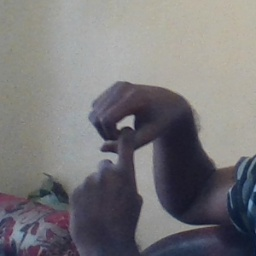Q: (65, 77, 184, 238)
